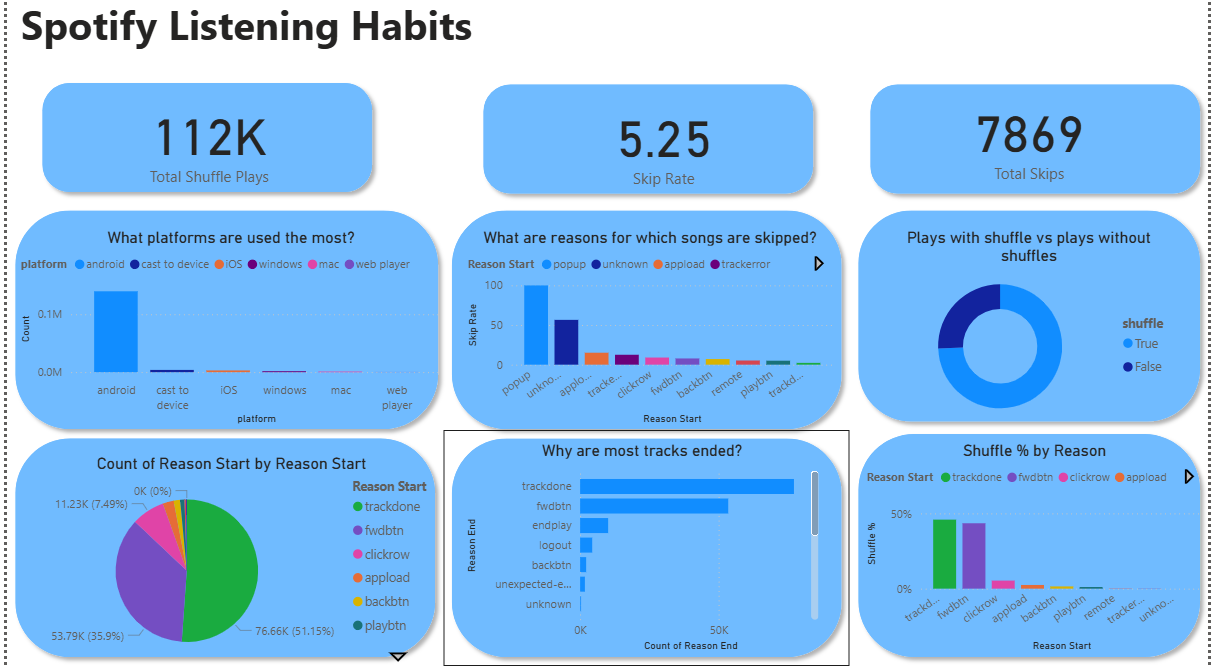

What the dashboard file says about the page in this screenshot:
{"tool":"powerbi","page":{"name":"Page 2","canvas":[1280,720],"ordinal":0},"visuals":[{"type":"shape","box":[28.8,88.5,369.1,134.2],"z":0,"group":"g1"},{"type":"group","id":"g1","title":"Group 1","box":[0,88.5,1279.7,629.5],"z":0},{"type":"textbox","box":[9.6,0,546.4,75.1],"z":1000},{"type":"shape","box":[498.5,90.1,369.1,134.2],"z":1000,"group":"g1"},{"type":"shape","box":[910.7,90.1,369.1,134.2],"z":2000,"group":"g1"},{"type":"card","fields":{"Values":["sportify_history.skip_rate"]},"box":[514.2,94.4,369.8,131],"z":2000},{"type":"card","fields":{"Values":["sportify_history.Total Shuffle Plays"]},"box":[44.3,90.5,340.9,132.9],"z":3000},{"type":"shape","box":[0,224.3,468.1,250.8],"z":3000,"group":"g1"},{"type":"card","fields":{"Values":["sportify_history.Total Skips"]},"box":[897.4,86.7,381.3,136.7],"z":4000},{"type":"shape","box":[464.9,224.3,433,250.8],"z":4000,"group":"g1"},{"type":"shape","box":[897.9,224.3,381.8,242.8],"z":5000,"group":"g1"},{"type":"columnChart","title":"What platforms are used the most?","fields":{"Category":["sportify_history.platform"],"Y":["CountNonNull(sportify_history.platform)"],"Series":["sportify_history.platform"]},"box":[9.6,250.4,458.3,213.8],"z":5000},{"type":"columnChart","title":"What are reasons for which songs are skipped?","fields":{"Y":["sportify_history.skip_rate"],"Category":["sportify_history.reason_start"],"Series":["sportify_history.reason_start"]},"box":[485.3,250.4,398.6,213.8],"z":6000},{"type":"shape","box":[464.9,467.1,433,250.8],"z":6000,"group":"g1"},{"type":"donutChart","title":"Plays with shuffle vs plays without shuffles","fields":{"Y":["CountNonNull(sportify_history.shuffle)"],"Category":["sportify_history.shuffle"]},"box":[922.5,250.4,333.2,213.8],"z":7000},{"type":"shape","box":[0,467.1,464.9,250.8],"z":7000,"group":"g1"},{"type":"shape","box":[897.9,462.4,381.8,255.6],"z":8000,"group":"g1"},{"type":"pieChart","title":"Count of Reason Start by Reason Start","fields":{"Y":["CountNonNull(sportify_history.reason_start)"],"Category":["sportify_history.reason_start"]},"box":[9.4,491.3,459.2,228.7],"z":8000},{"type":"clusteredBarChart","title":"Why are most tracks ended?","fields":{"Category":["sportify_history.reason_end"],"Y":["CountNonNull(sportify_history.reason_end)"]},"box":[484.1,477.7,385,228.5],"z":9000},{"type":"columnChart","title":"Shuffle % by Reason ","fields":{"Y":["sportify_history.Total Shuffle Plays"],"Category":["sportify_history.reason_start"],"Series":["sportify_history.reason_start"]},"box":[910.7,477.7,367.5,228.5],"z":10000}]}

Visuals, with their boxes in screenshot pixels (x1, y1, x2, y2), scaled from the page's 1280x720 canvas onto the 1212x666 screenshot:
shape: crop(27, 82, 377, 206)
"Group 1" group: crop(0, 82, 1211, 664)
textbox: crop(9, 0, 526, 69)
shape: crop(472, 83, 822, 207)
shape: crop(862, 83, 1211, 207)
card - sportify_history.skip_rate: crop(487, 87, 837, 208)
card - sportify_history.Total Shuffle Plays: crop(42, 84, 365, 207)
shape: crop(0, 207, 443, 439)
card - sportify_history.Total Skips: crop(850, 80, 1211, 207)
shape: crop(440, 207, 850, 439)
shape: crop(850, 207, 1211, 432)
"What platforms are used the most?" columnChart: crop(9, 232, 443, 429)
"What are reasons for which songs are skipped?" columnChart: crop(460, 232, 837, 429)
shape: crop(440, 432, 850, 664)
"Plays with shuffle vs plays without shuffles" donutChart: crop(873, 232, 1189, 429)
shape: crop(0, 432, 440, 664)
shape: crop(850, 428, 1211, 664)
"Count of Reason Start by Reason Start" pieChart: crop(9, 454, 444, 665)
"Why are most tracks ended?" clusteredBarChart: crop(458, 442, 823, 653)
"Shuffle % by Reason " columnChart: crop(862, 442, 1210, 653)
